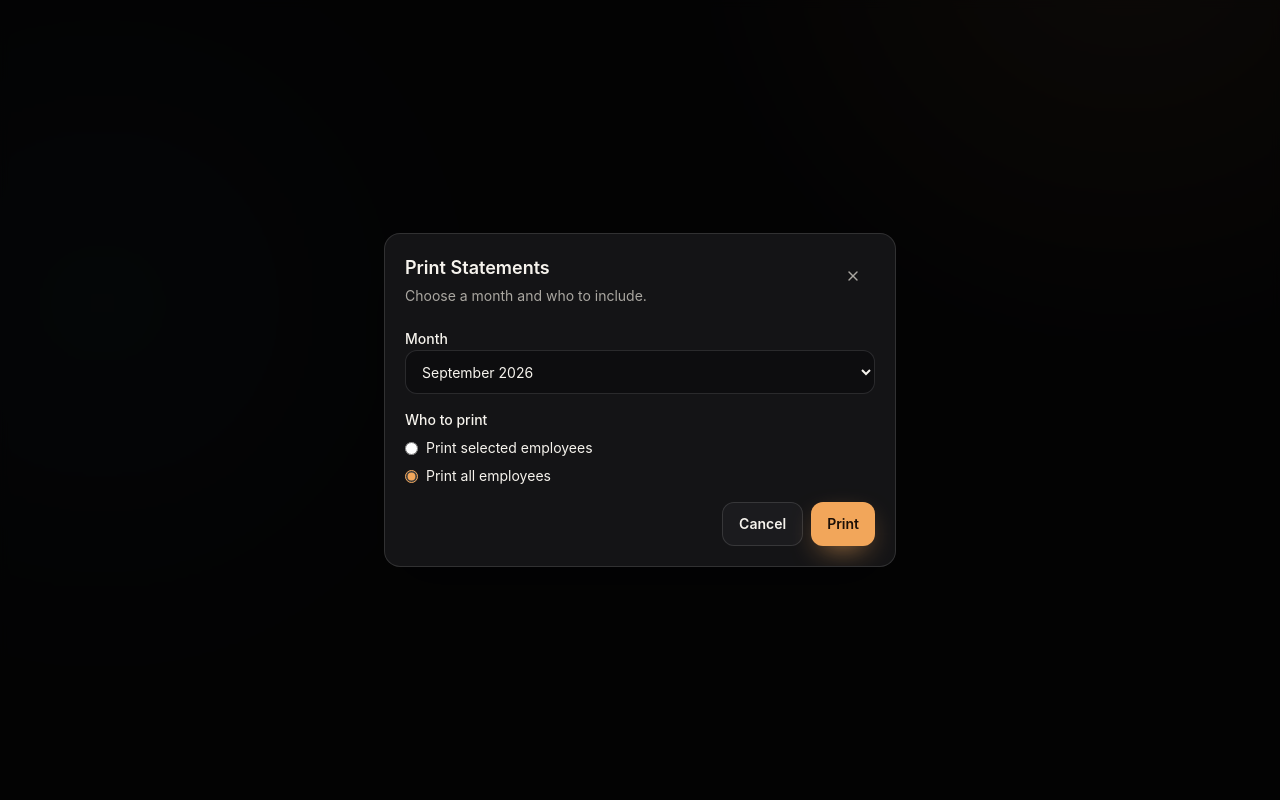
PayrollPrintDialog › refuses to print with nothing selected under 'selected employees'
This screenshot has width=1280, height=800.
Click the radio button labelled "Print selected employees": (412, 448) [405,442,418,454]
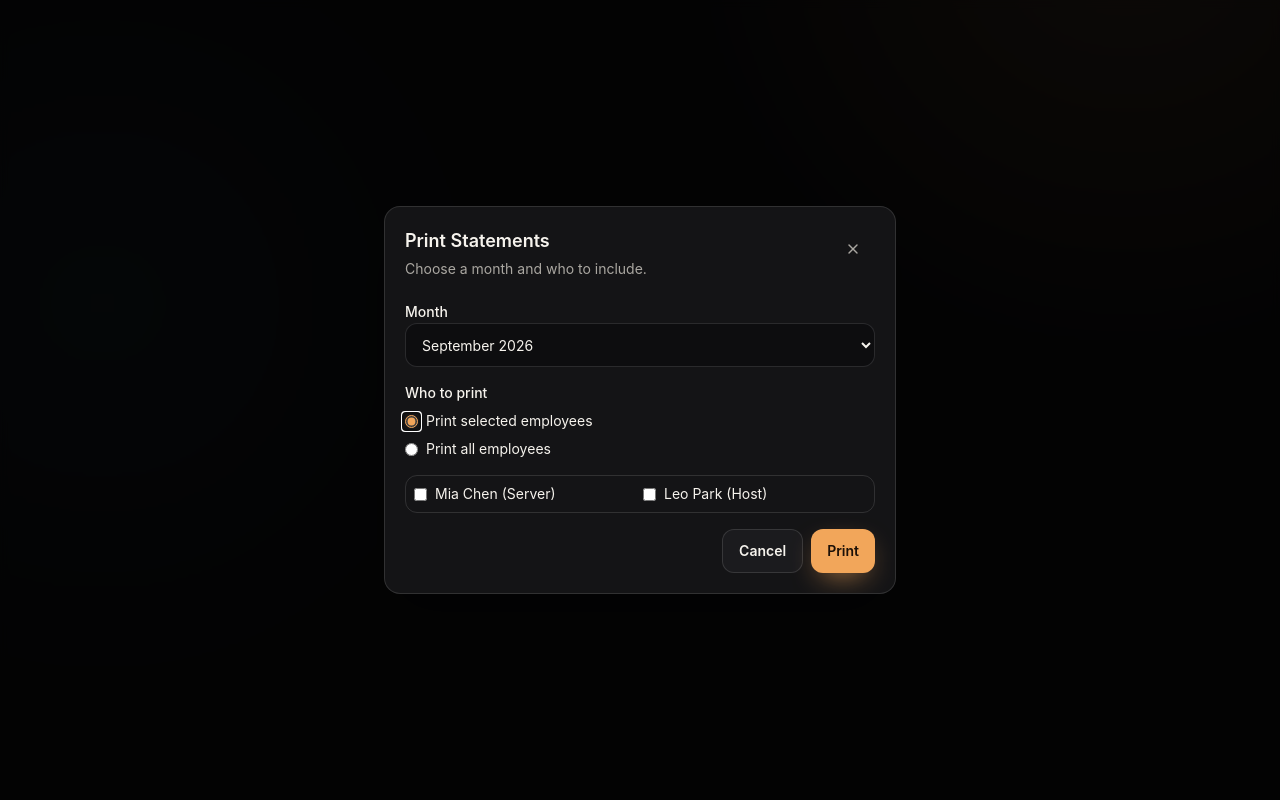
Click the button "Print": (843, 551) [811,529,875,573]
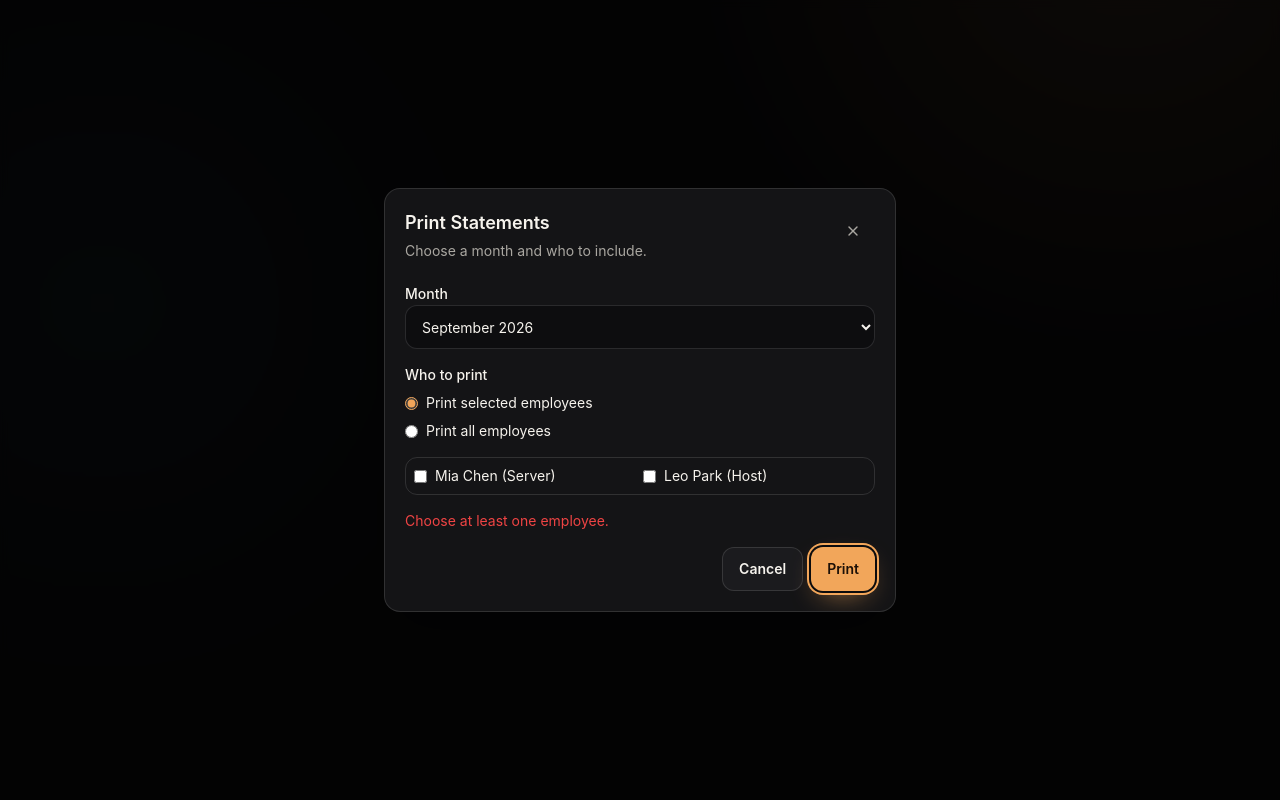
Result: the text "Choose at least one employee." is shown at [405,512,609,529]
